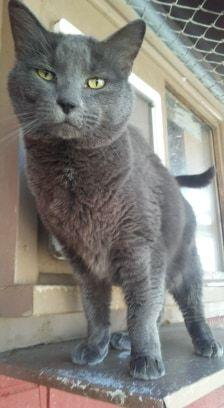rblue: (1, 3, 145, 157)
